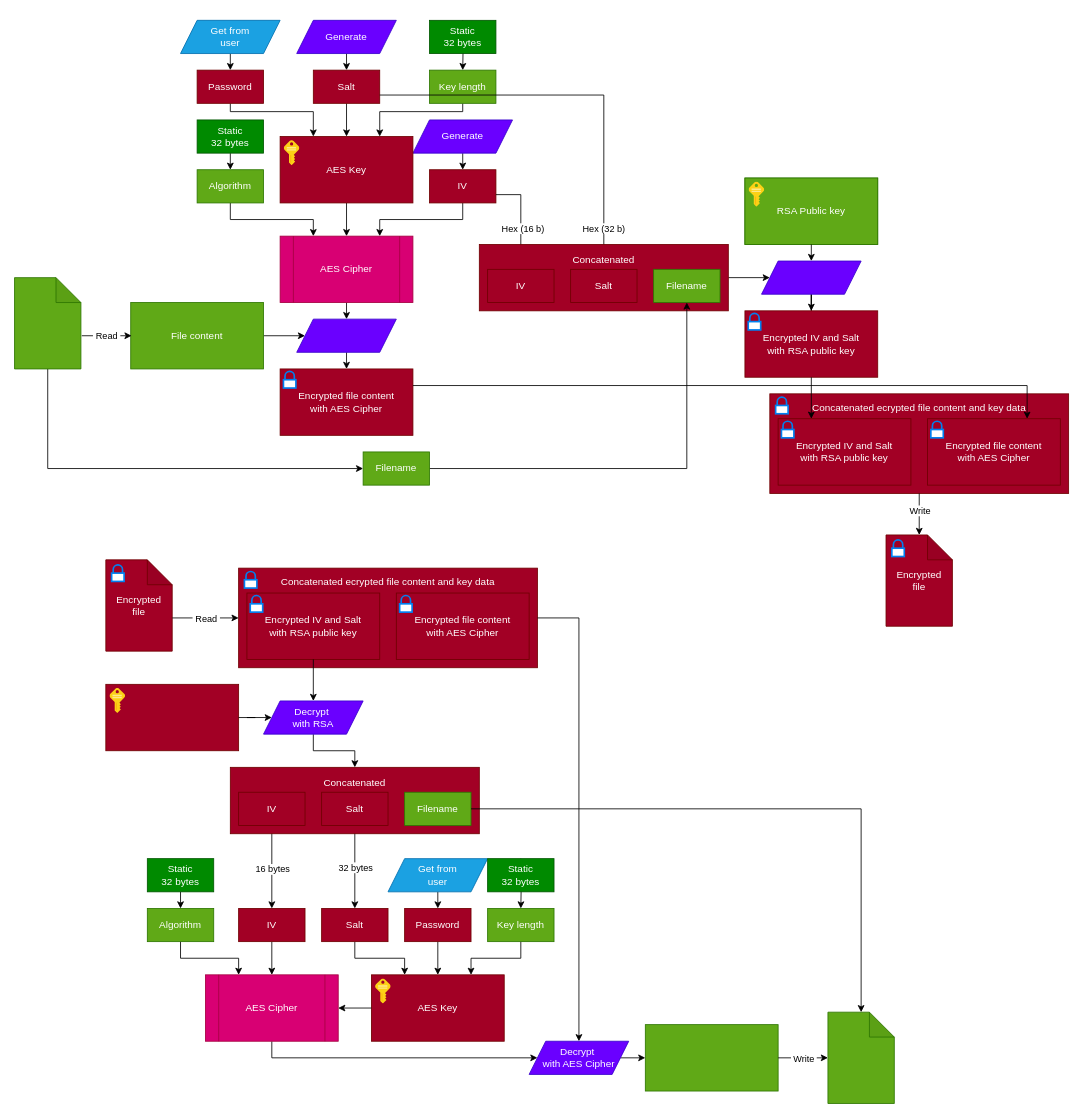
This 1083x1118 diagram has some shape labels left out. Each missing label, with the box of its shape:
Decrypted file: (827, 1011, 894, 1103)
Decrypted file content: (644, 1024, 778, 1091)
Encrypt with AES Cipher: (296, 318, 396, 352)
Encrypt with RSA: (761, 260, 861, 294)
File: (14, 277, 81, 369)
RSA Private key: (105, 684, 239, 751)
